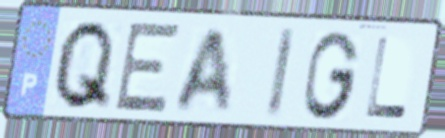A: (170, 25, 234, 114)
E: (111, 19, 185, 116)
G: (301, 28, 363, 123)
I: (263, 24, 299, 122)
L: (363, 34, 411, 122)
Q: (49, 17, 119, 114)
